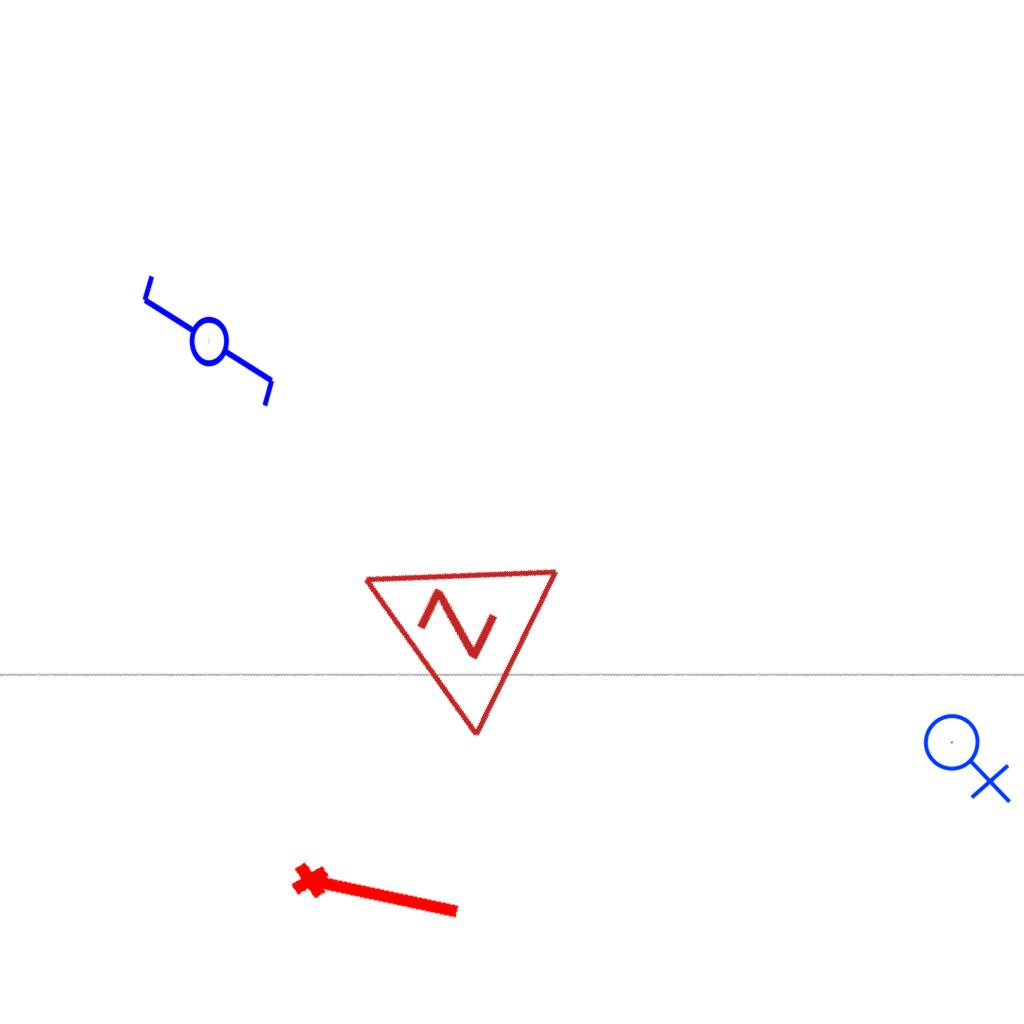ASR_Ansaugoeffnung: (286, 851, 468, 933)
Elektroanschluss_allgemein_230V_Geraeteanschlussdose_230V: (922, 705, 1016, 804)
Wechselschalter: (135, 271, 279, 428)
Zimmersignalleuchte: (308, 487, 574, 751)
